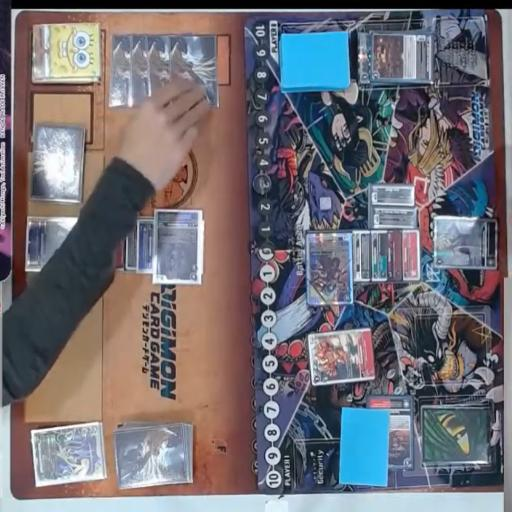card: (154, 207, 203, 286), (25, 217, 82, 270)
